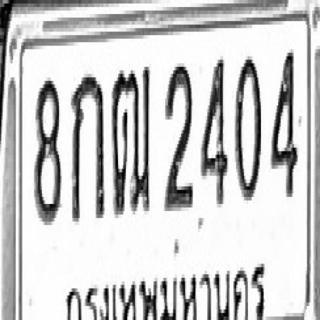A01: (70, 70, 104, 222)
A18: (111, 63, 150, 215)
N00: (234, 53, 262, 200)
N02: (164, 62, 193, 209)
N04: (200, 54, 228, 206), (270, 46, 298, 197)
N08: (34, 76, 61, 223)
